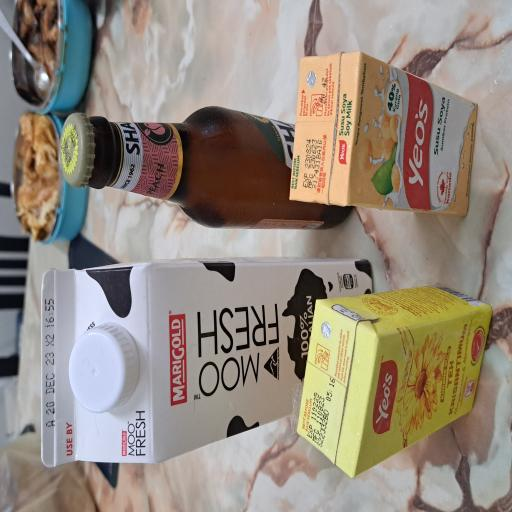drink carton: (33, 53, 192, 500), (25, 392, 170, 512), (218, 384, 346, 512)
glass bottle: (212, 78, 304, 475)
plastic bottle cap: (75, 91, 142, 186)
